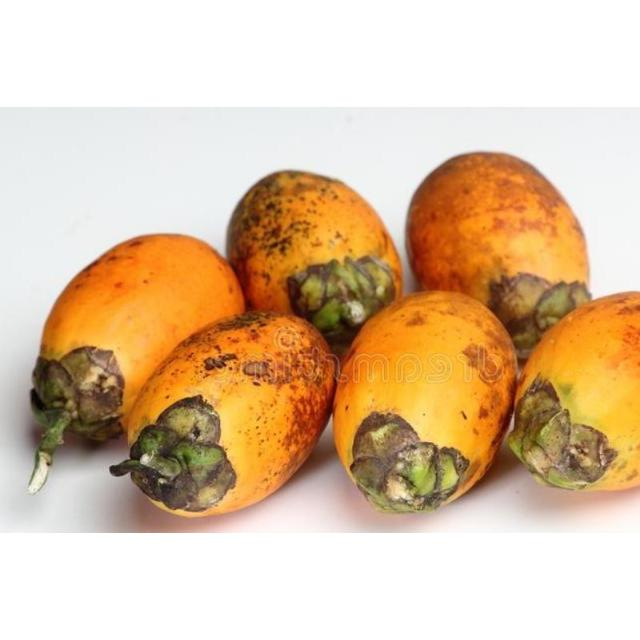good: (30, 233, 247, 484), (110, 311, 340, 520), (330, 292, 522, 516), (406, 152, 593, 360), (226, 169, 402, 357), (506, 292, 639, 494)
